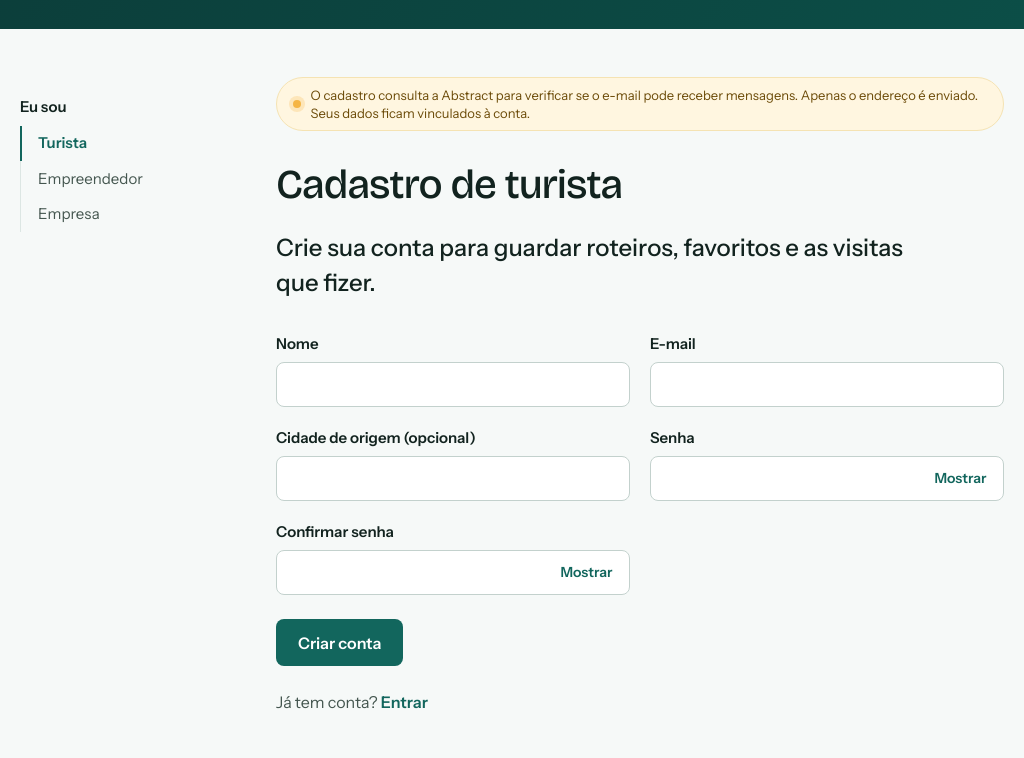
Test: Tela de Cadastro › bloqueia o cadastro quando a API responde indisponivel
The image size is (1024, 758).
(page scrolled)
In the field labelled "Nome": x=453, y=384 [276, 362, 630, 407], type "Maria"
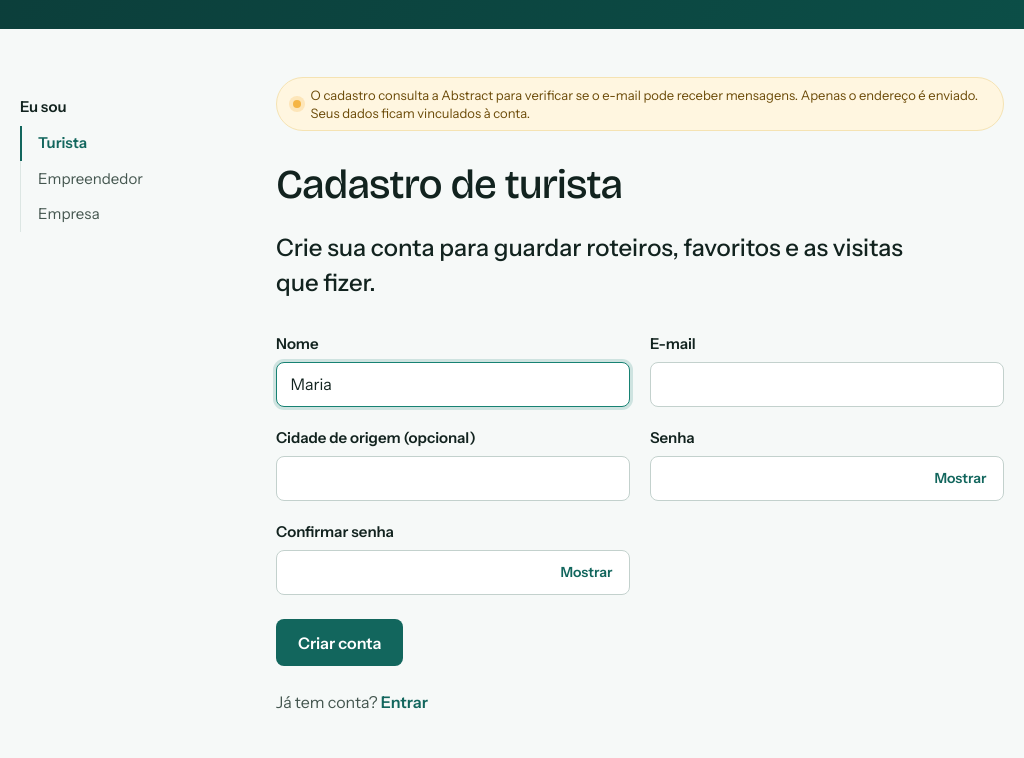
In the field labelled "E-mail": x=827, y=384 [650, 362, 1004, 407], type "maria@exemplo.com"
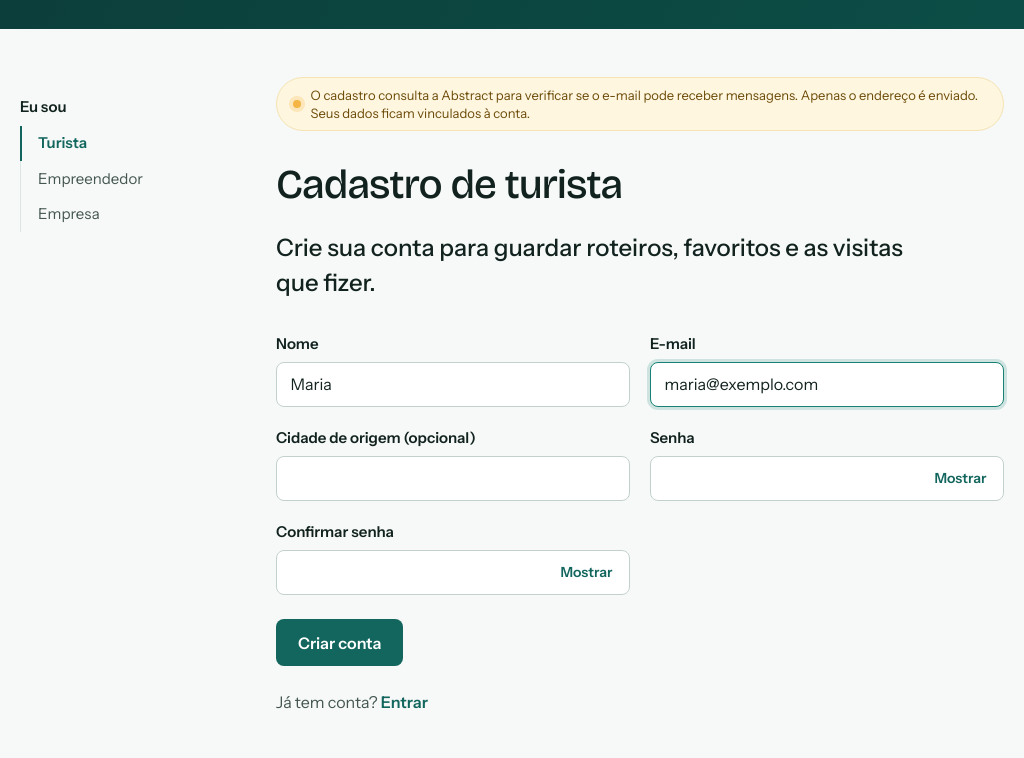
In the password field labelled "Senha": x=827, y=478 [650, 456, 1004, 501], type "Segredo1!"
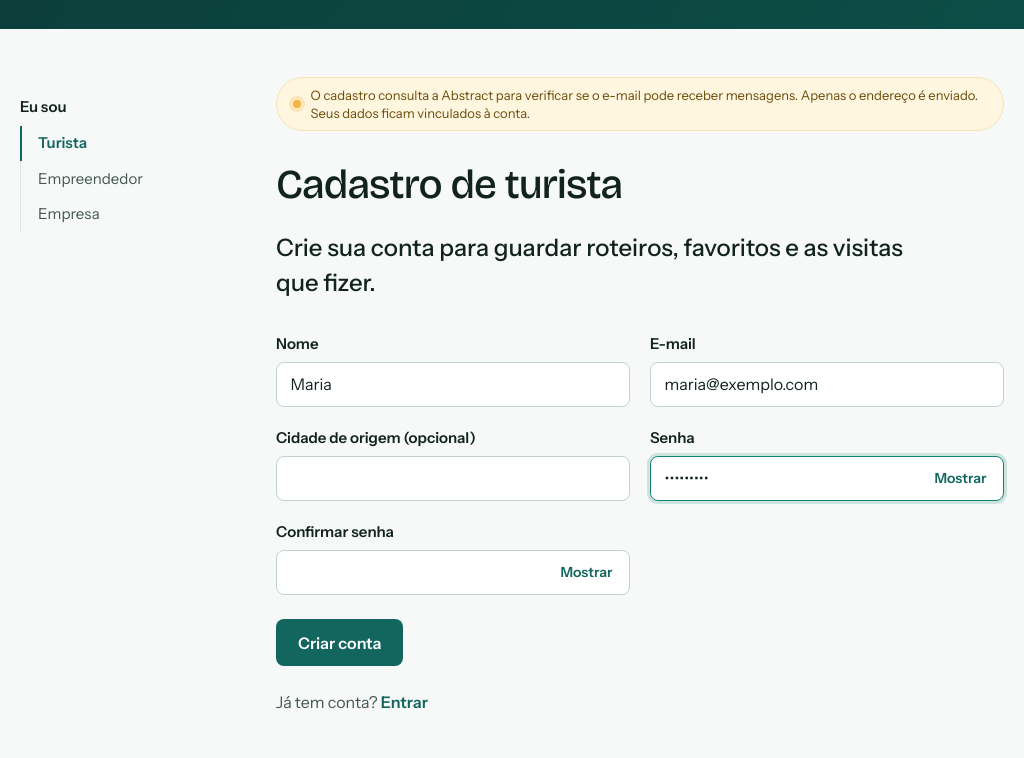
In the password field labelled "Confirmar senha": x=453, y=572 [276, 550, 630, 595], type "Segredo1!"
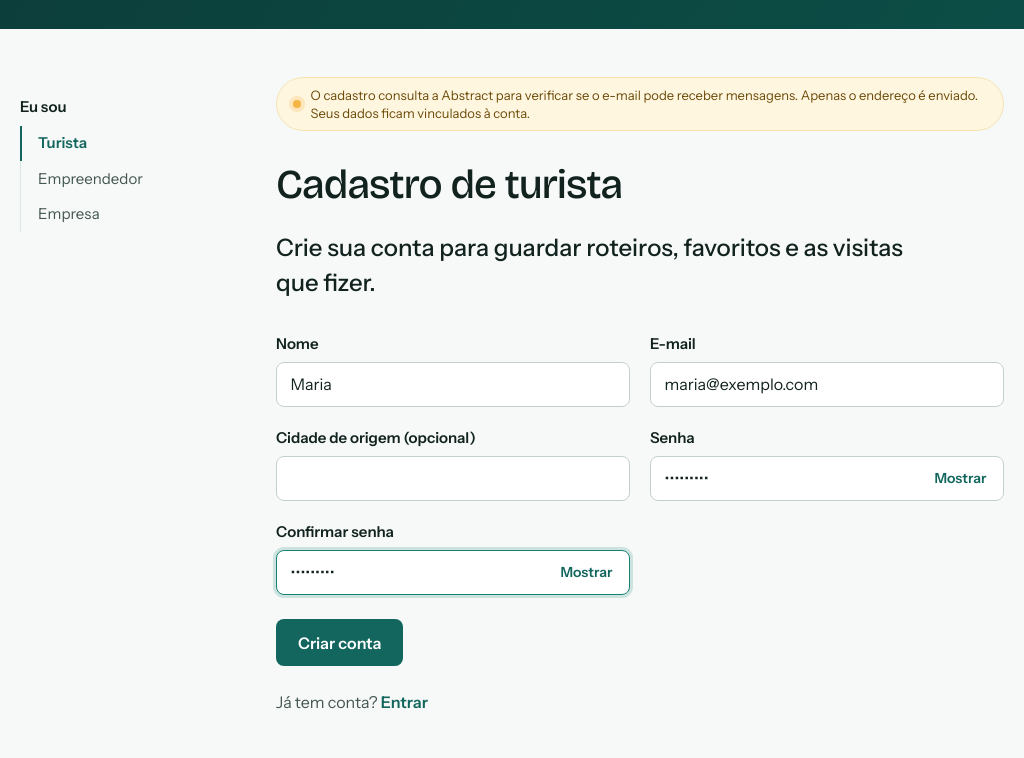
Click the button "Criar conta": x=340, y=643 [276, 619, 404, 666]
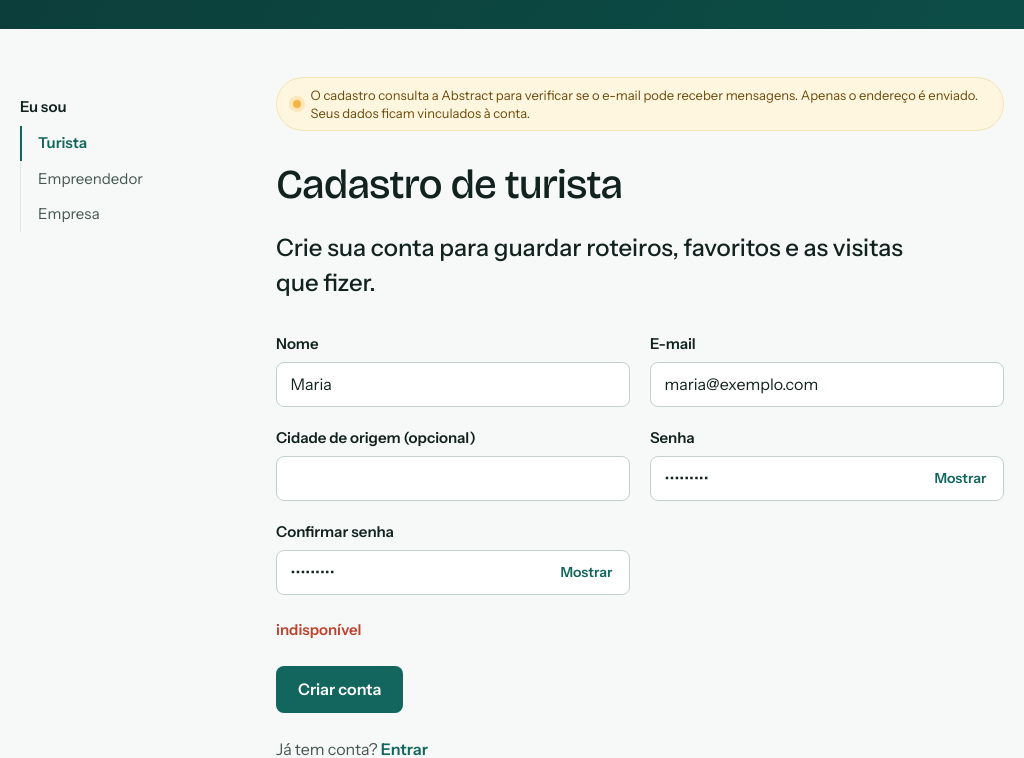
Check: the message reads "indisponível", box [276, 620, 361, 639]
